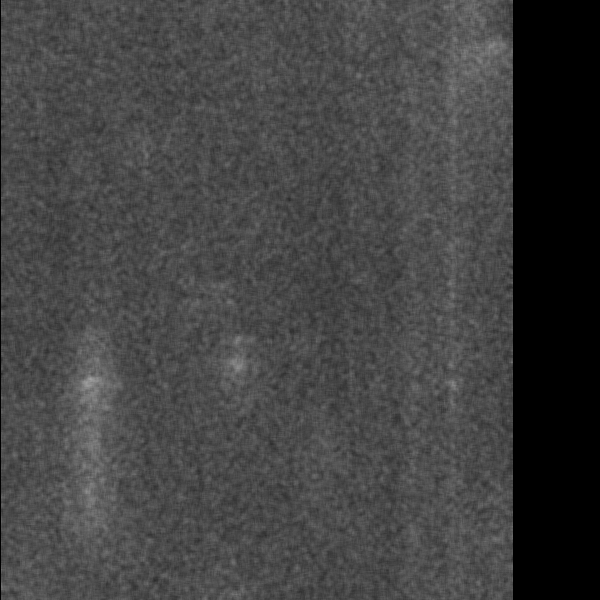spark: (66, 358, 115, 574), (468, 36, 503, 72), (225, 350, 250, 376), (72, 482, 91, 505)
